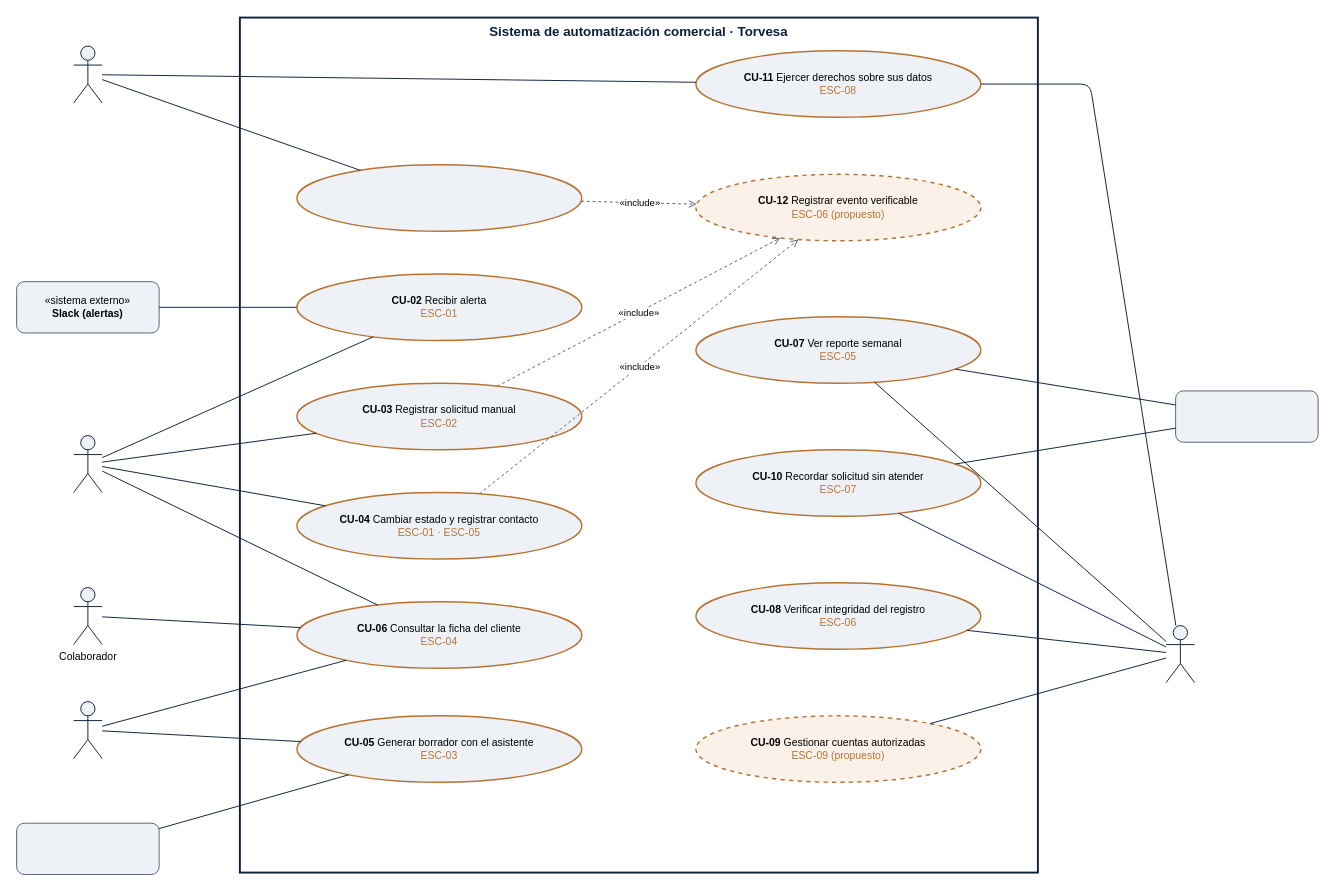
This 1335x891 diagram has some shape labels left out. The shapes that lost their labels are listed below. From the top down, each one's centre as x and y in pixels, then its label:
point 87,74: Prospecto o cliente
point 439,198: CU-01 Enviar solicitud ESC-01
point 1246,416: «sistema externo» Reloj del sistema
point 87,464: Coordinador comercial
point 1180,654: Gerencia
point 87,730: Quien cotiza
point 87,848: «sistema externo» Servicio LLM
